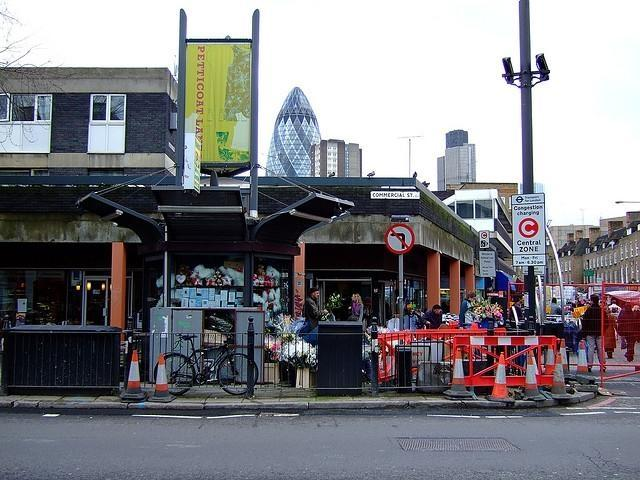bicycle: (154, 334, 259, 396)
